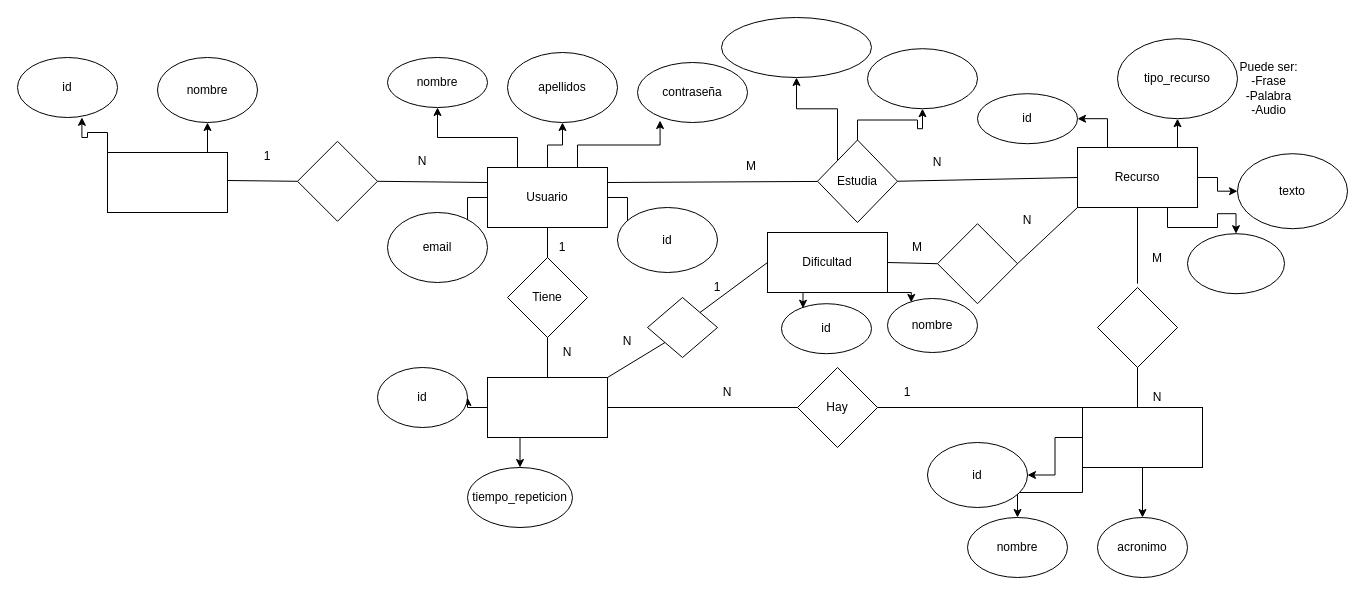
This 1365x595 diagram has some shape labels left out. Each missing label, with the centre of its shape:
"Compuesta" goes at (977,263).
"Configuracion" goes at (547,407).
"Es" goes at (337,180).
"fecha_ultima_repeticion" goes at (796,47).
"Idioma" goes at (1142,437).
"nivel" goes at (922,78).
"orden" goes at (1235,263).
"Presenta" goes at (682,327).
"Rol" goes at (167,182).
"Se traduce" goes at (1137,327).
